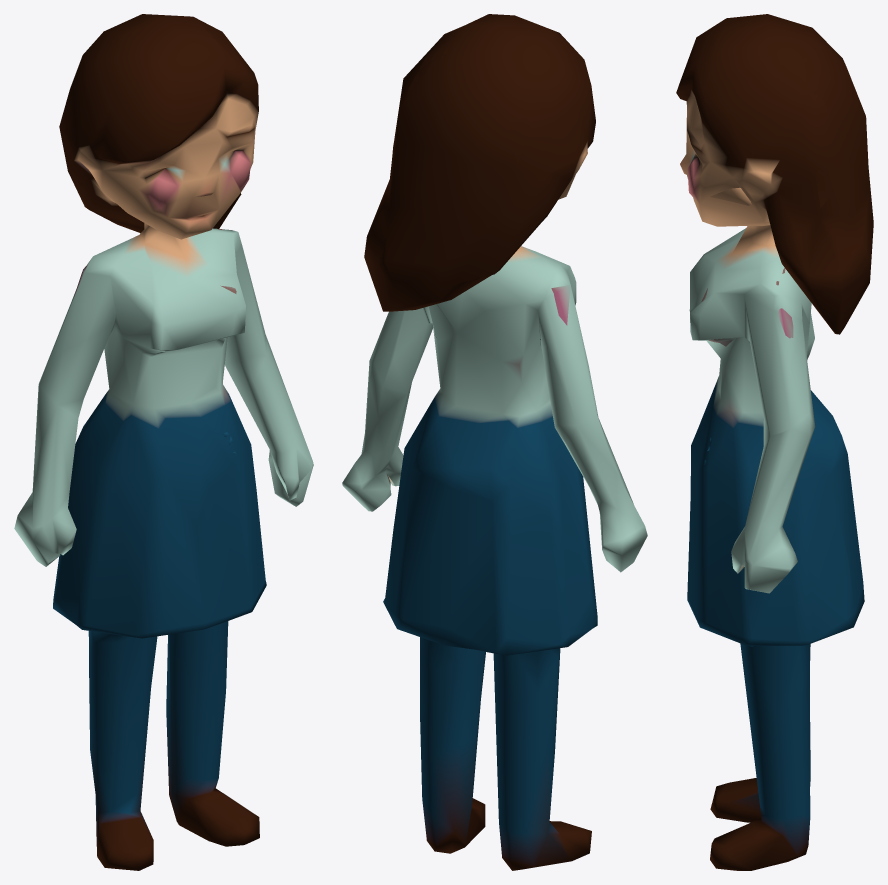
File: gen3d-mom-lod0.glb
The picture shows the model from 3 angles, left to right: view 1: azimuth 30°, elevation 25°; view 2: azimuth 150°, elevation 25°; view 3: azimuth 270°, elevation 25°; orthographic projection.
Visible parts, largest first — view 1: part_0; view 2: part_0; view 3: part_0.
Part boxes in pixels (<box>): part_0: <box>14,14,313,870</box>; part_0: <box>342,14,647,870</box>; part_0: <box>676,14,873,870</box>.
Size of the model in its own units: 0.3622 by 0.9999 by 0.2207.
